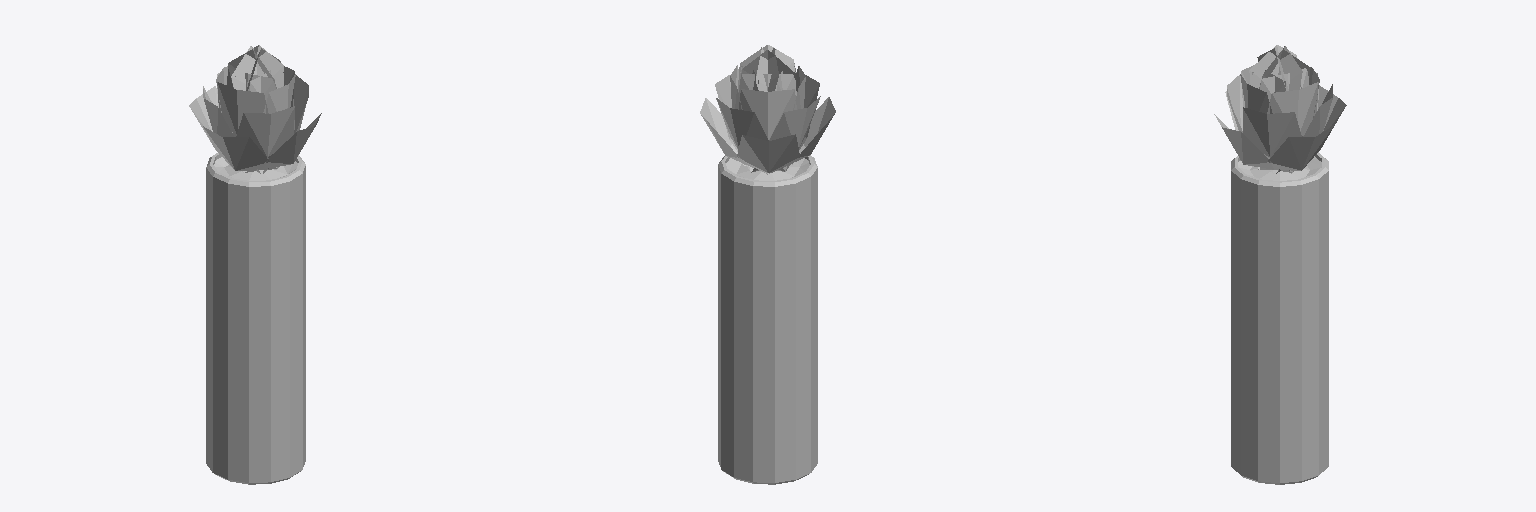
File: cylinder_pine.obj
3 renders of one model, left to right at view 1: azimuth 30°, elevation 25°; view 2: azimuth 150°, elevation 25°; view 3: azimuth 270°, elevation 25°, orthographic.
Parts seen in each view (by area): view 1: Pine.001; view 2: Pine.001; view 3: Pine.001.
Boxes of the visible parts, x1=… form: Pine.001: x1=189, y1=45, x2=321, y2=484; Pine.001: x1=700, y1=45, x2=835, y2=484; Pine.001: x1=1214, y1=45, x2=1346, y2=484.
Bounding box in the file's own units: 0.4011 × 1.38 × 0.4011.